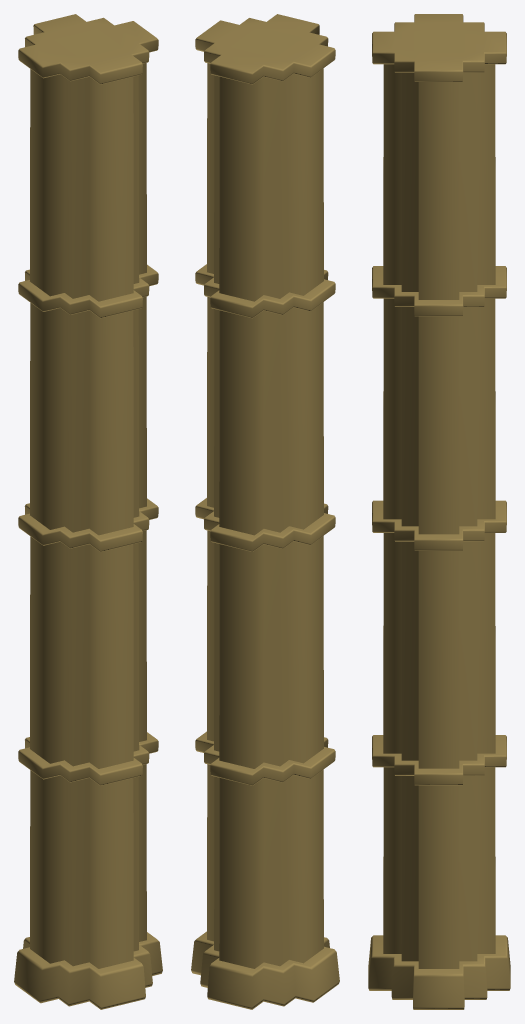
The model's file is Pillar_03_x4_Lod0.fbx.
3 renders of one model, left to right at view 1: azimuth 30°, elevation 25°; view 2: azimuth 150°, elevation 25°; view 3: azimuth 270°, elevation 25°, orthographic.
Visible parts, largest first — view 1: Pillar_03_x4_Lod0; view 2: Pillar_03_x4_Lod0; view 3: Pillar_03_x4_Lod0.
Boxes of the visible parts, x1,y1,x2,y2 form: Pillar_03_x4_Lod0: (14,14,162,1009); Pillar_03_x4_Lod0: (191,14,339,1009); Pillar_03_x4_Lod0: (368,14,510,1009).
Bounding box in the file's own units: 165 × 1201 × 165.
